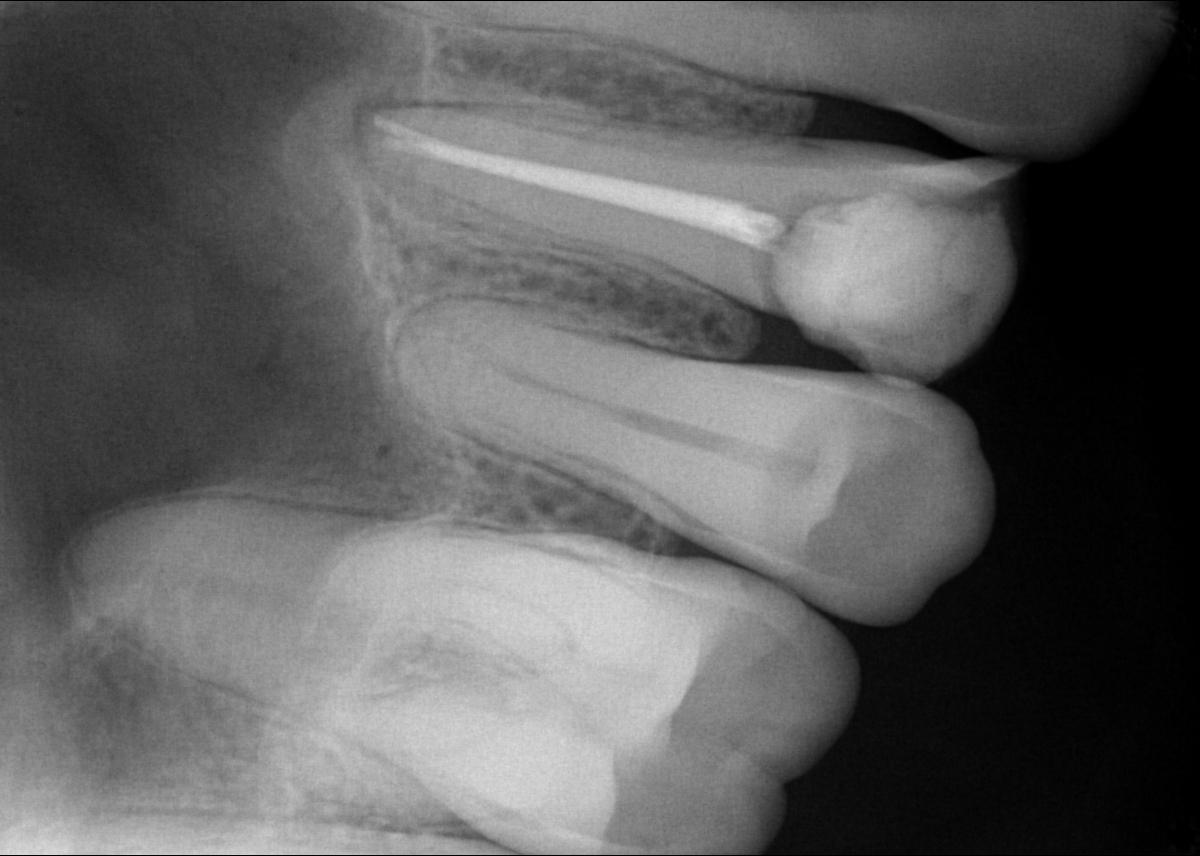Furcation Involvement: (349, 92, 479, 159)
